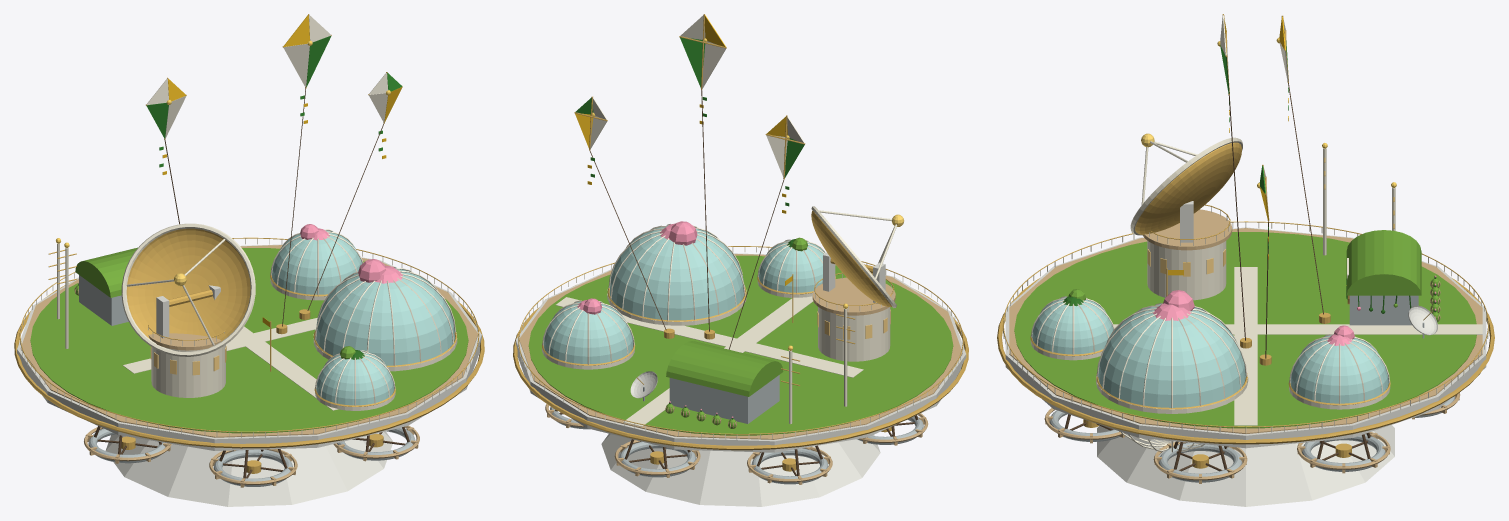
File: station_science.obj
The picture shows the model from 3 angles, left to right: view 1: azimuth 30°, elevation 25°; view 2: azimuth 150°, elevation 25°; view 3: azimuth 270°, elevation 25°; orthographic projection. The views are drawn at different scales.
Visible parts, largest first — view 1: station_science; view 2: station_science; view 3: station_science.
Boxes of the visible parts, box(x1,y1,x2,y2) form: station_science: box(14, 14, 484, 506); station_science: box(513, 14, 968, 506); station_science: box(997, 14, 1494, 506).
Size of the model in its own units: 1000 by 1028 by 1000.
Materials: 1 (1 with a texture image).
